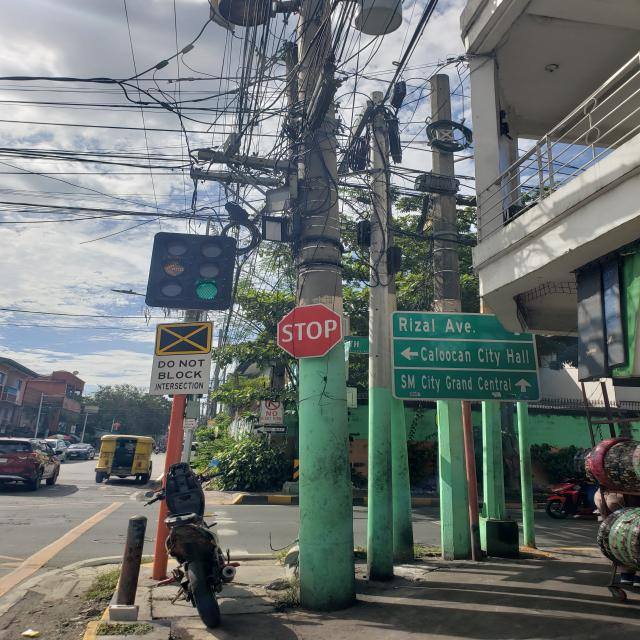stop-sign: (277, 303, 343, 359)
